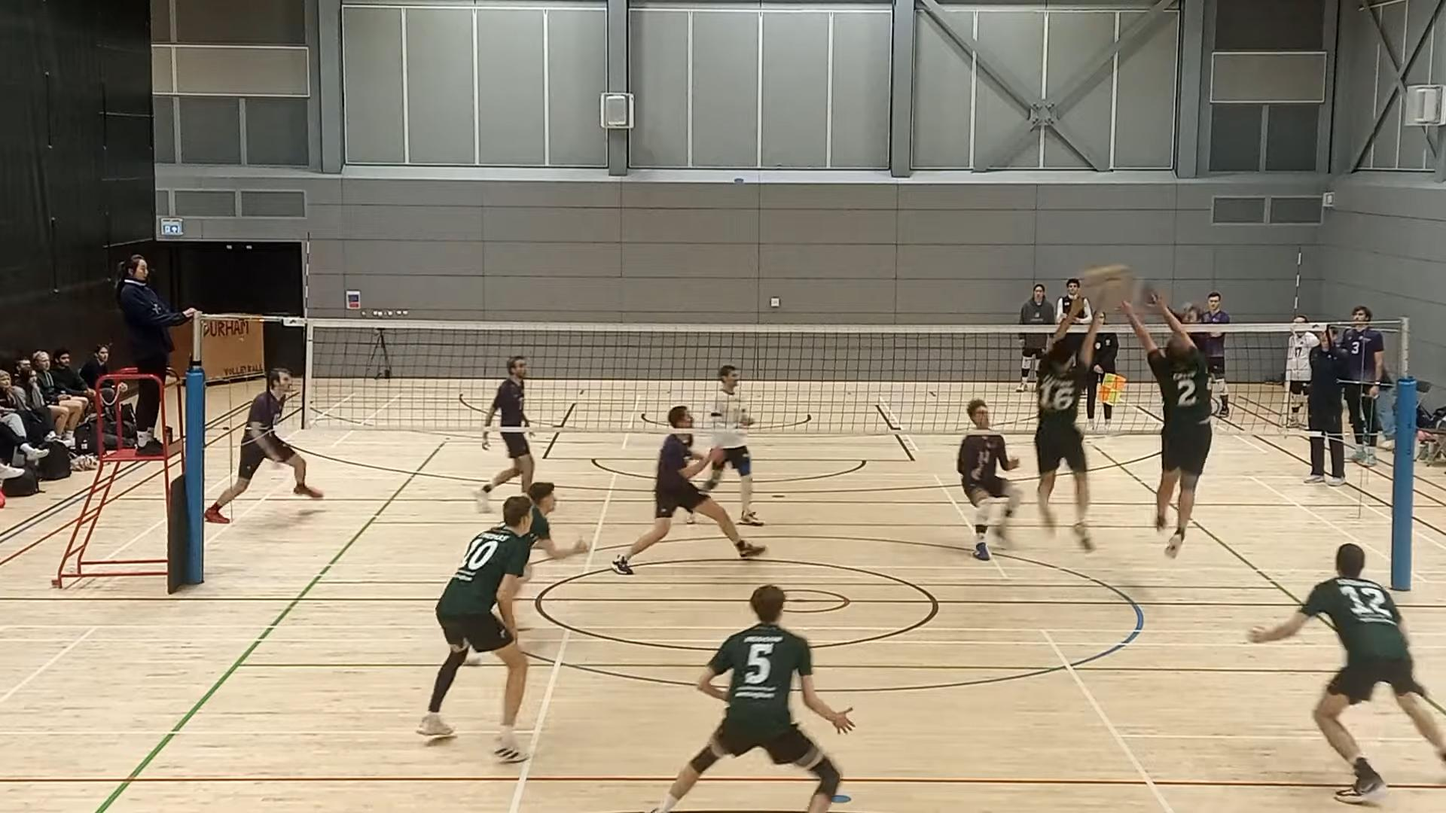Attack: (1177, 286, 1221, 390)
Block: (1125, 291, 1215, 554), (1035, 289, 1105, 551)
Player: (1249, 544, 1445, 803), (653, 586, 853, 812), (417, 495, 532, 762), (612, 406, 765, 574), (203, 368, 322, 523), (956, 400, 1019, 560), (702, 365, 764, 525), (477, 356, 534, 512), (523, 482, 587, 561), (524, 483, 587, 560)
